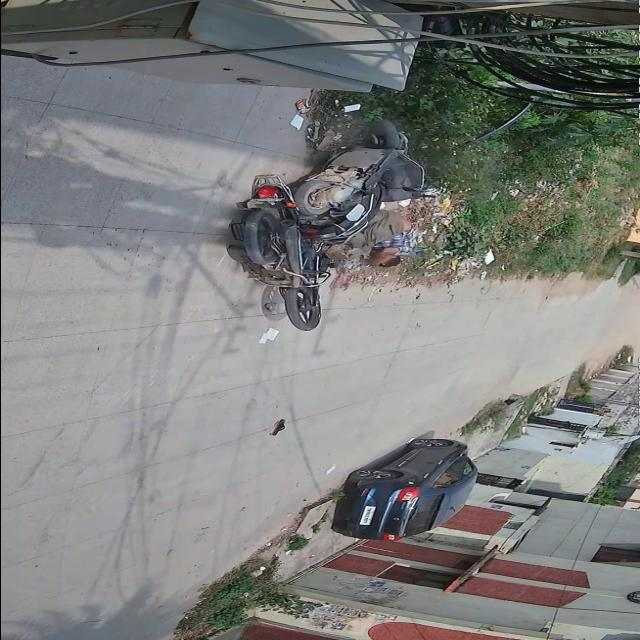accident: (227, 112, 449, 336)
